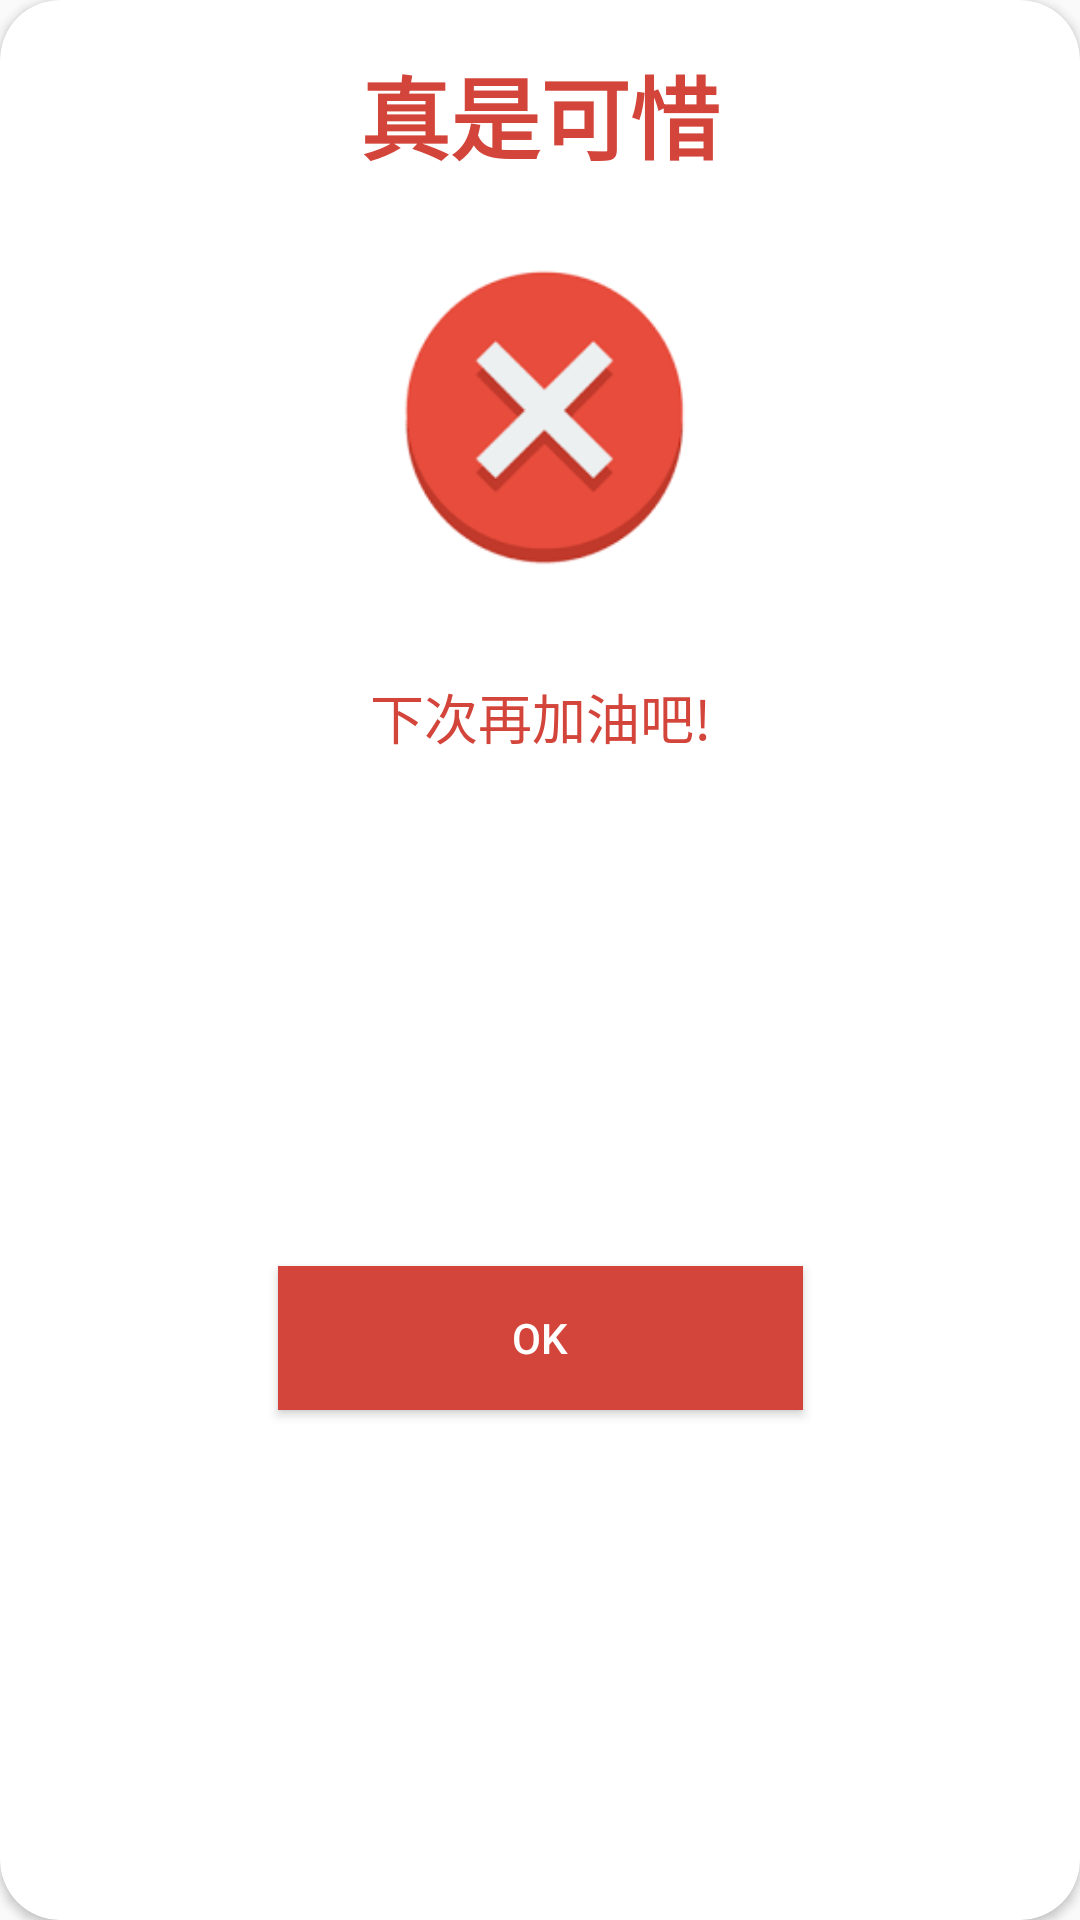

Named icons in this screenshot (1080w x 1920h) and their bounding boxes, {"left": x1, "top": y1, "right": x2, "bottom": y2}:
gameover: {"left": 405, "top": 271, "right": 684, "bottom": 564}
